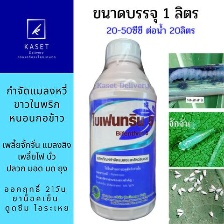insecticide: (86, 34, 157, 222)
